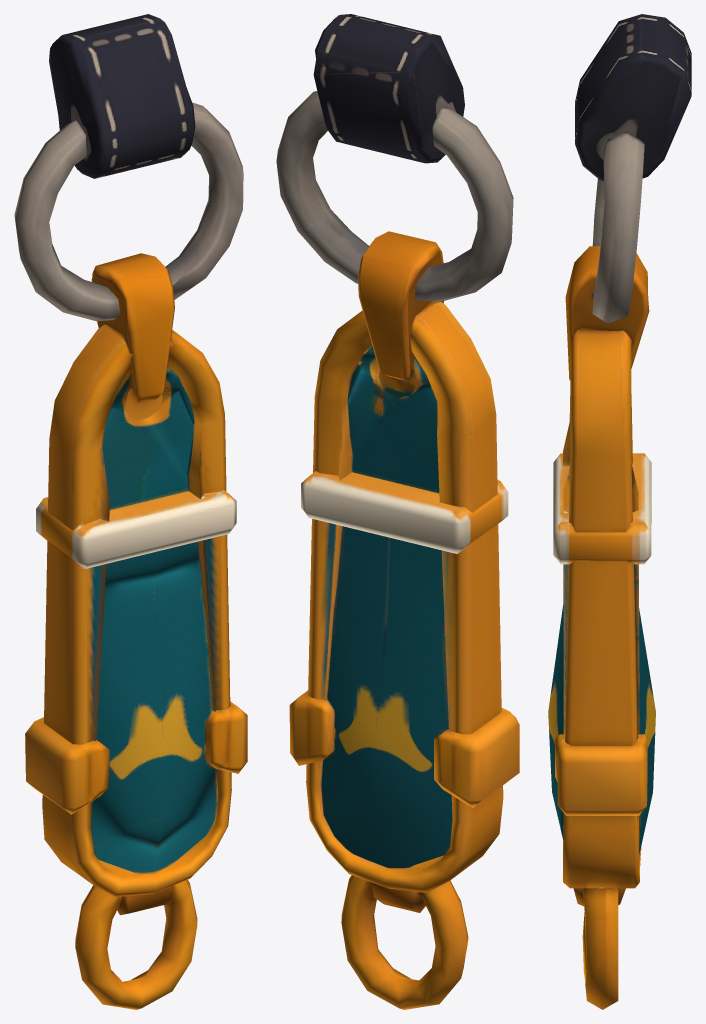
The model's file is Charm.glb.
3 views of the same model, side by side, from view 1: azimuth 30°, elevation 25°; view 2: azimuth 150°, elevation 25°; view 3: azimuth 270°, elevation 25° (orthographic). The views are drawn at different scales.
Visible parts, largest first — view 1: Mesh_0.002; view 2: Mesh_0.002; view 3: Mesh_0.002.
Boxes of the visible parts, <box> form: Mesh_0.002: <box>14,14,247,1009</box>; Mesh_0.002: <box>276,14,519,1009</box>; Mesh_0.002: <box>548,14,691,1009</box>.
Size of the model in its own units: 0.0477 by 0.1943 by 0.0261.
Materials: 1 (1 with a texture image).
